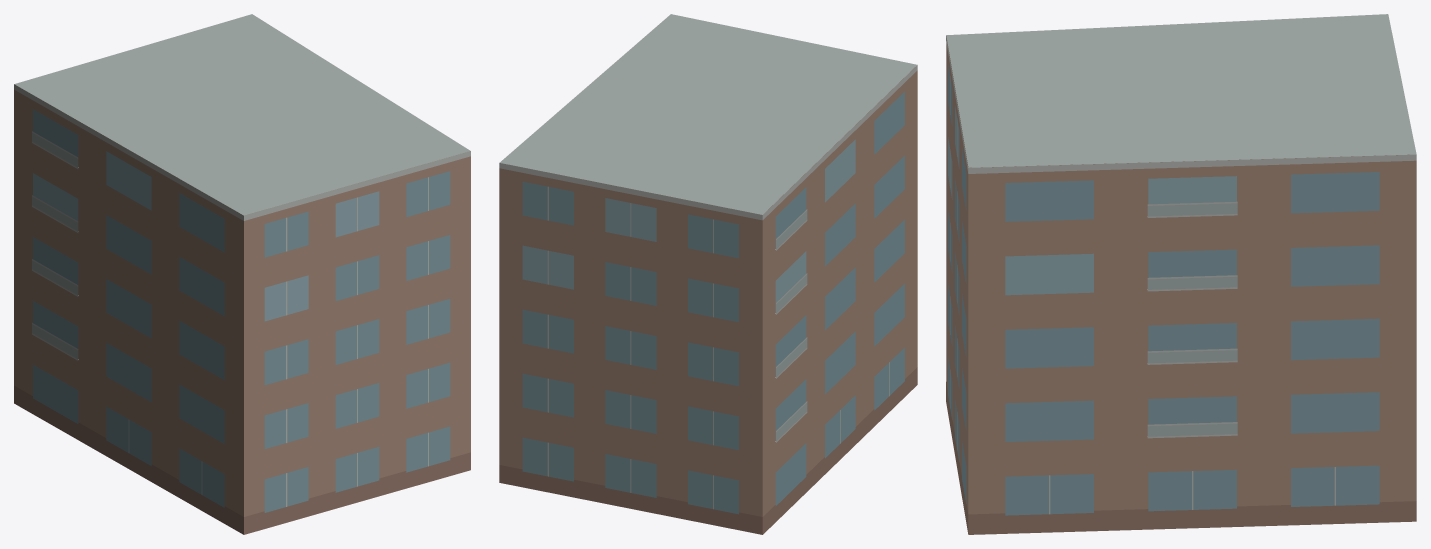
File: survey-upis-32998273.glb
3 views of the same model, side by side, from view 1: azimuth 30°, elevation 25°; view 2: azimuth 150°, elevation 25°; view 3: azimuth 270°, elevation 25° (orthographic). The views are drawn at different scales.
Parts seen in each view (by area): view 1: survey-upis-32998273.tmp; view 2: survey-upis-32998273.tmp; view 3: survey-upis-32998273.tmp.
Boxes of the visible parts, x1=… form: survey-upis-32998273.tmp: x1=14, y1=14, x2=470, y2=534; survey-upis-32998273.tmp: x1=499, y1=14, x2=917, y2=534; survey-upis-32998273.tmp: x1=946, y1=14, x2=1416, y2=534.
Bounding box in the file's own units: 12.95 × 14.4 × 16.73.
